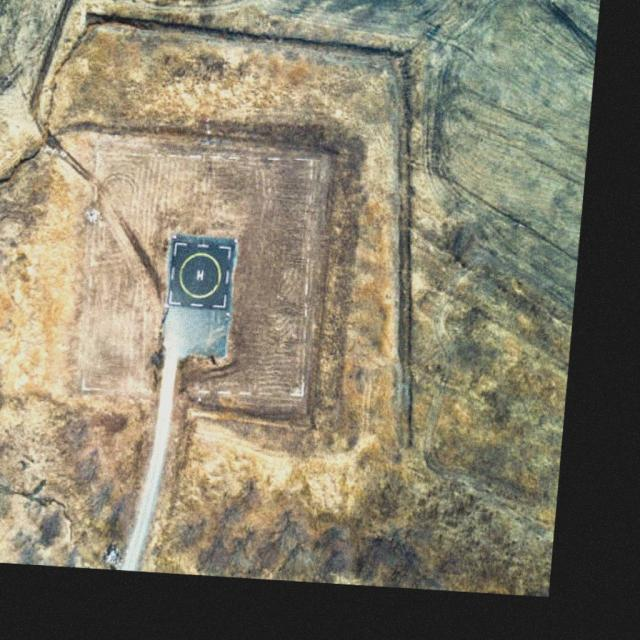helipad: (177, 250, 221, 298)
